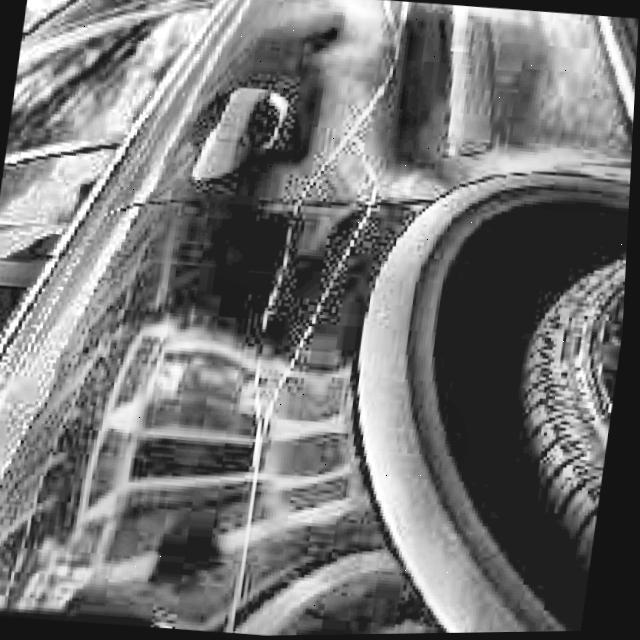door_scratch: (200, 233, 344, 566)
